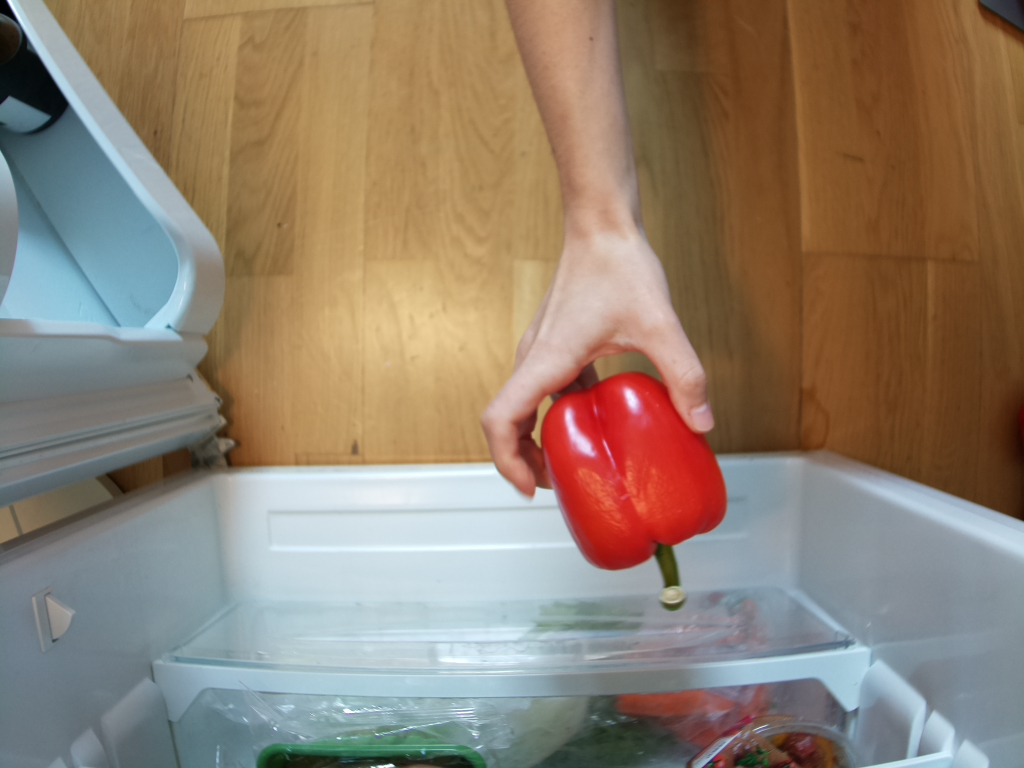pepper-bad: (541, 372, 734, 614)
